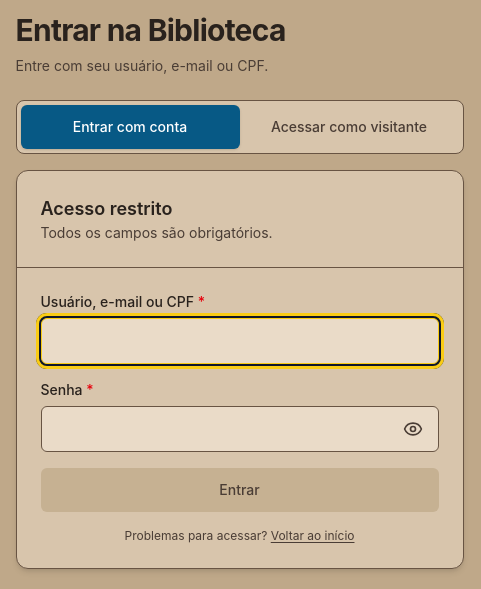
Test: Guest school autocomplete › waits for two characters before opening school suggestions
The image size is (481, 589).
Click the tab "Acessar como visitante" at (349, 127), box [240,105,458,149]
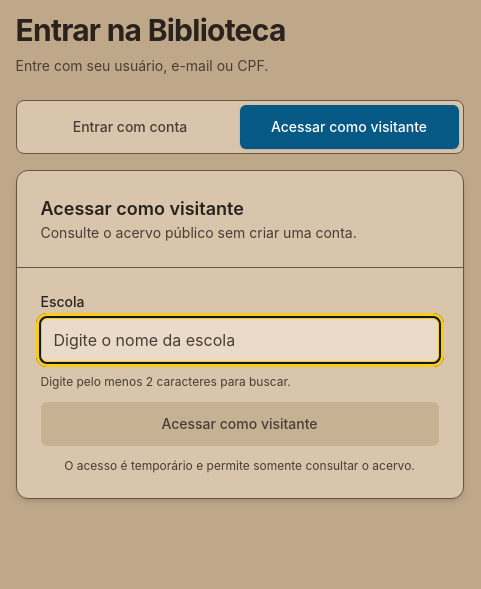
Type "E" into the dropdown labelled "Escola" at (240, 340), box [40,318,438,362]
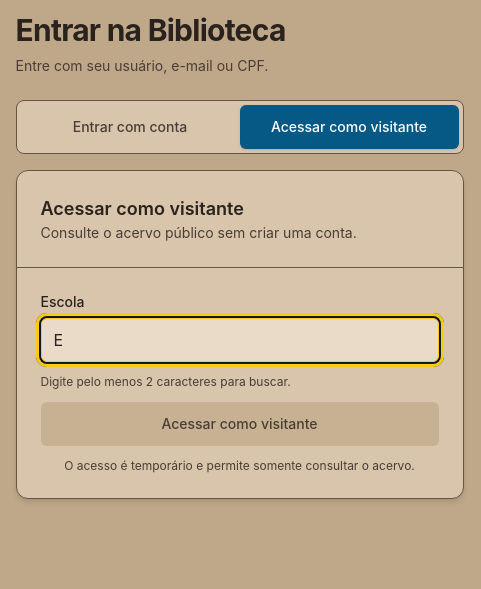
expect the message shows "pelo menos 2 caracteres": met, box [40,374,291,389]
Replace the text in the dropdown labelled "Escola" with "Es" at (240, 340), box [40,318,438,362]
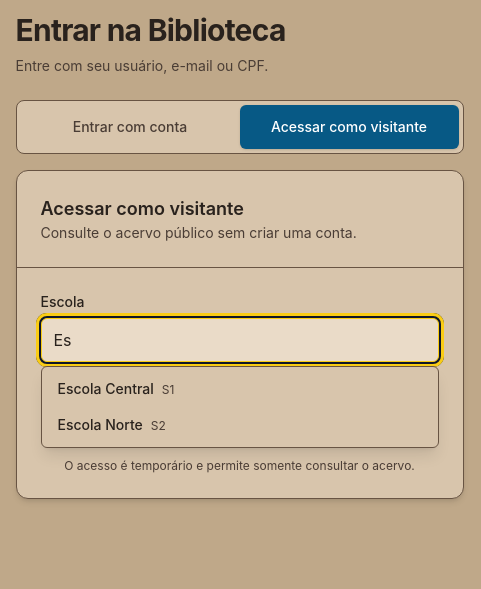
expect the list is shown: met, box [40,366,438,448]
